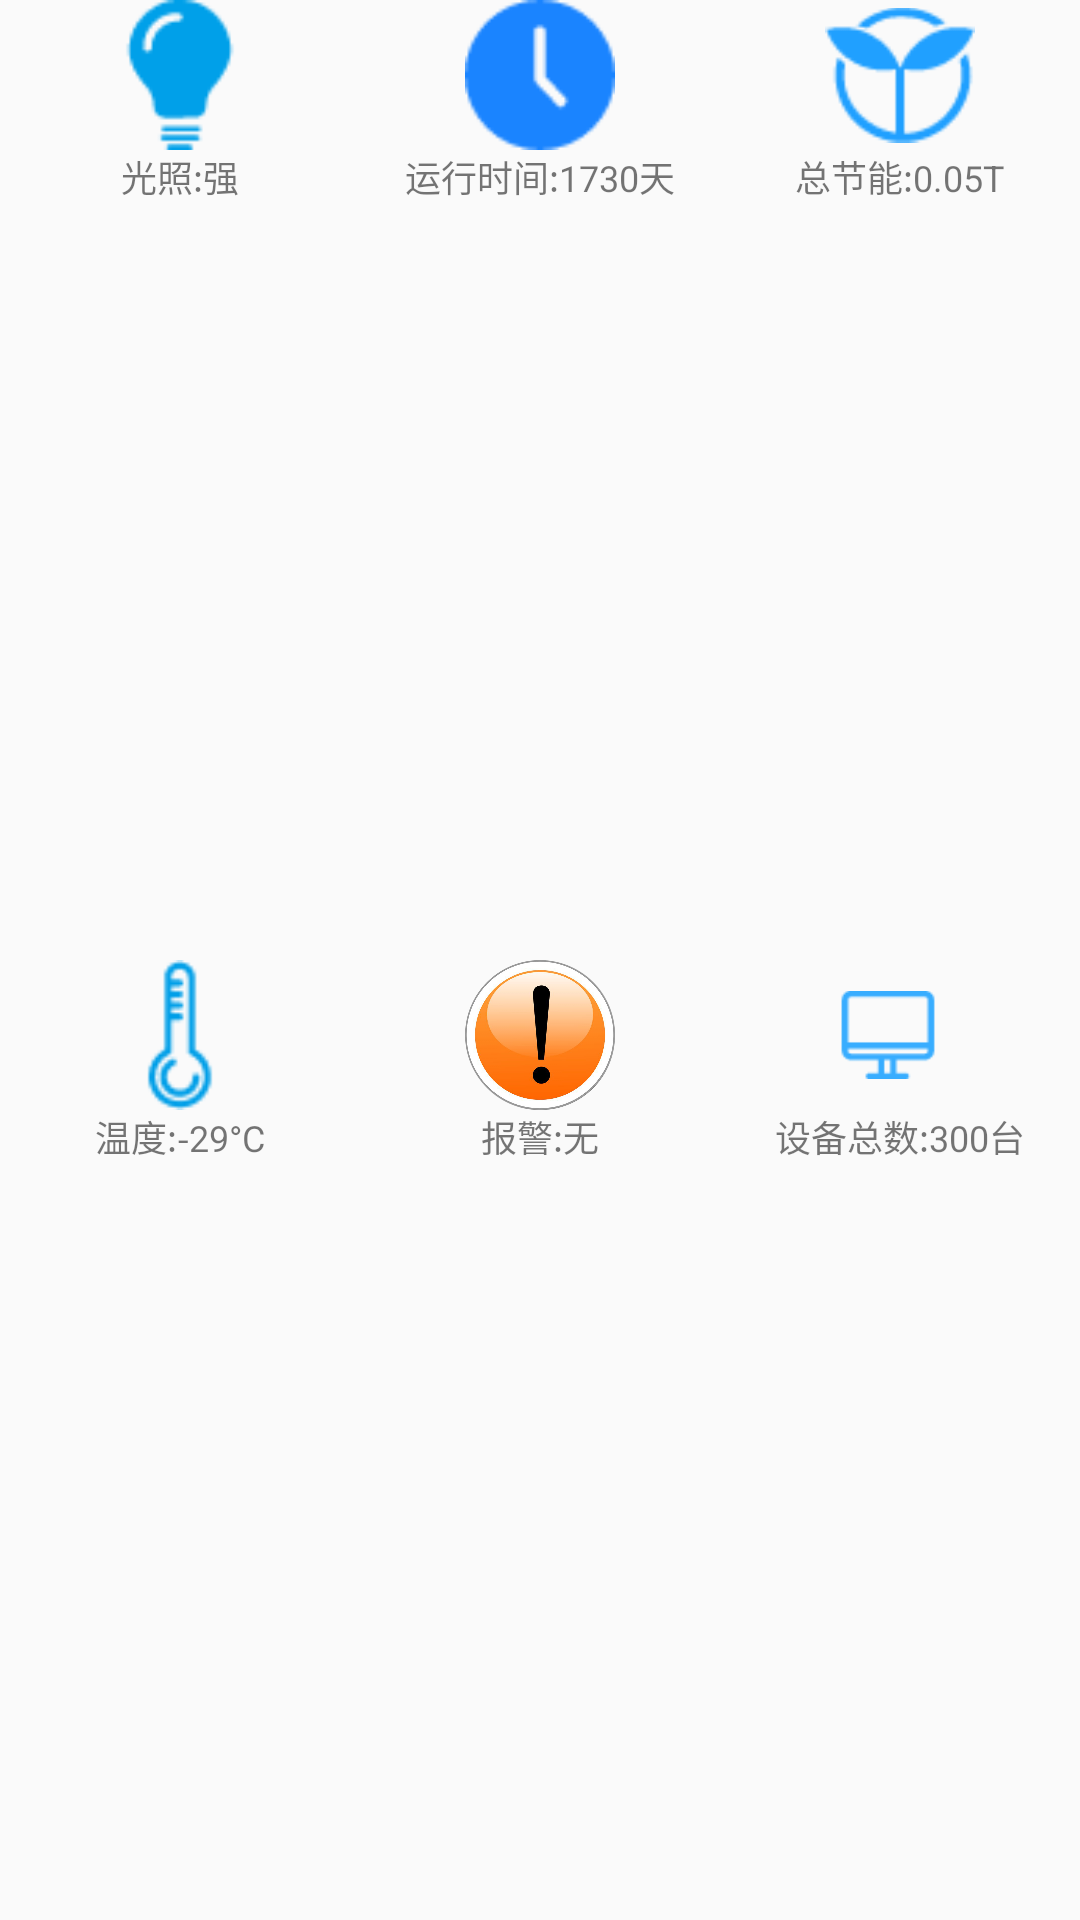

Icon bounding boxes for this 1080*1920 phone screenshot, format detection(x1, y1, x2, y2):
clock: detection(465, 0, 615, 150)
lantern: detection(127, 0, 233, 150)
leaf: detection(825, 8, 975, 143)
weatherglass: detection(147, 960, 212, 1110)
